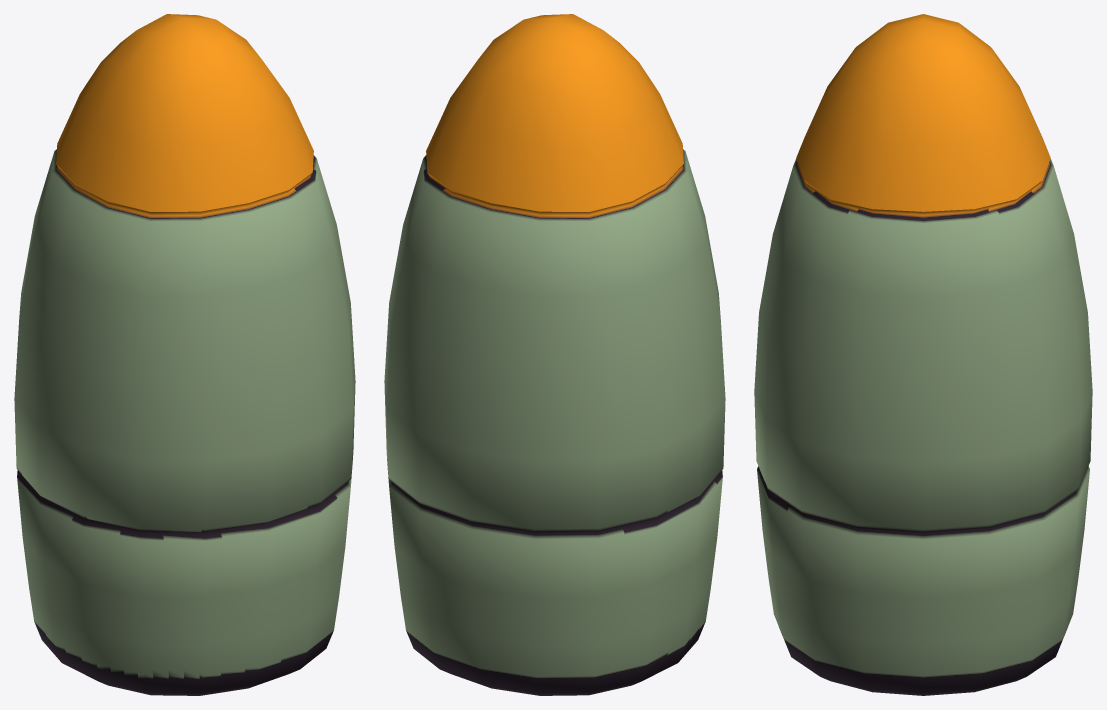
Rendered from Missile_1.glb.
3 renders of one model, left to right at view 1: azimuth 30°, elevation 25°; view 2: azimuth 150°, elevation 25°; view 3: azimuth 270°, elevation 25°, orthographic.
Parts seen in each view (by area): view 1: Cube.001; view 2: Cube.001; view 3: Cube.001.
Part boxes in pixels (left/top/right/bottom): Cube.001: left=14, top=14, right=355, bottom=695; Cube.001: left=384, top=14, right=725, bottom=695; Cube.001: left=754, top=14, right=1092, bottom=695.
Size of the model in its own units: 0.4584 by 0.9391 by 0.4584.
1 material, 1 textured.
